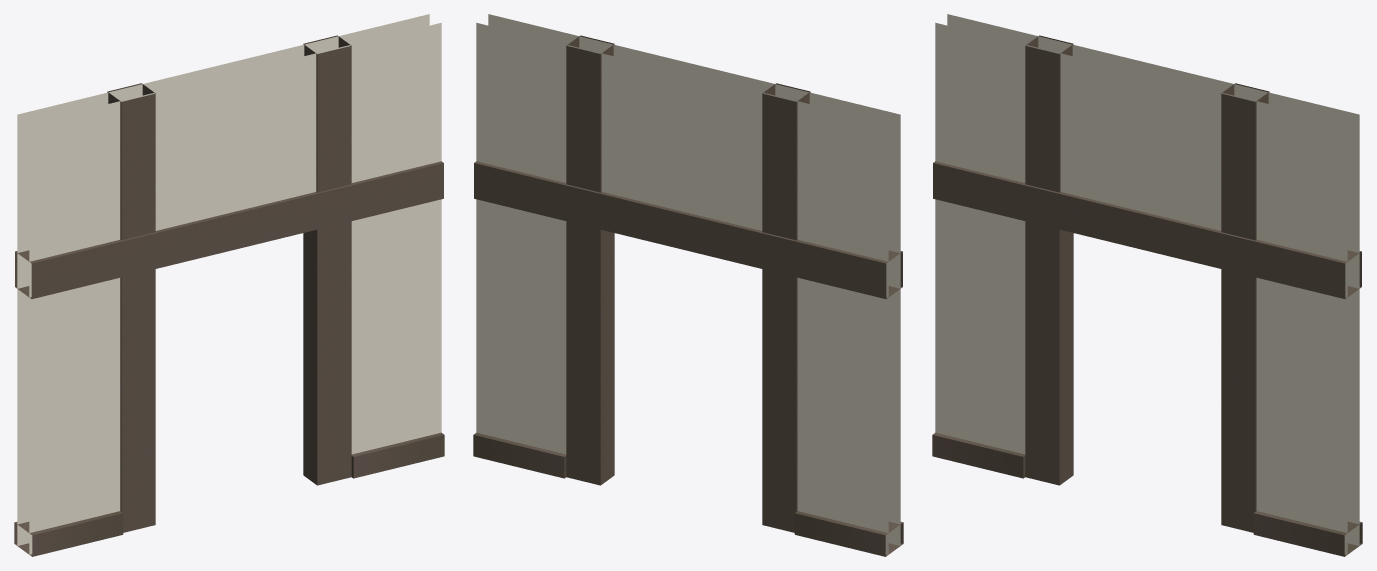
Rendered from Wall_1F_Door.fbx.
3 renders of one model, left to right at view 1: azimuth 30°, elevation 25°; view 2: azimuth 150°, elevation 25°; view 3: azimuth 330°, elevation 25°, orthographic.
Visible parts, largest first — view 1: pCube764; view 2: pCube764; view 3: pCube764.
Boxes of the visible parts, x1,y1,x2,y2 form: pCube764: [14, 14, 444, 556]; pCube764: [473, 14, 903, 556]; pCube764: [932, 14, 1362, 556].
Bounding box in the file's own units: 400 × 400 × 30.
